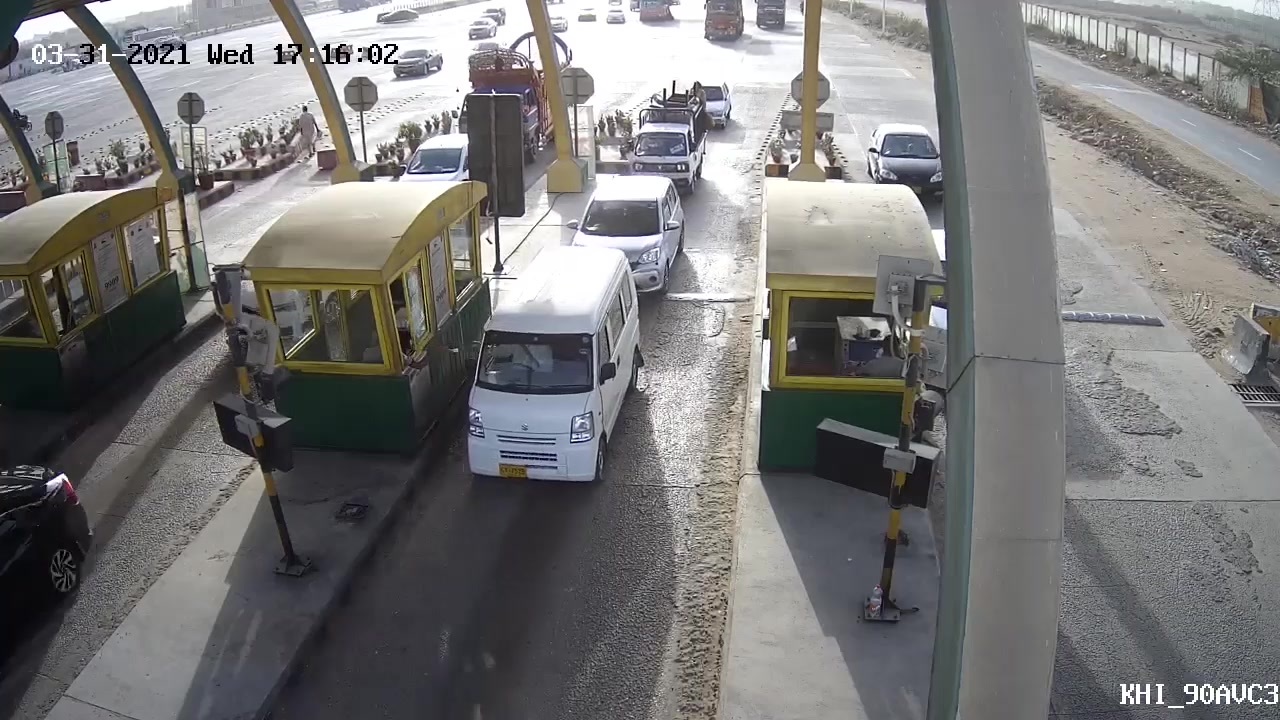F1: (448, 248, 652, 496)
